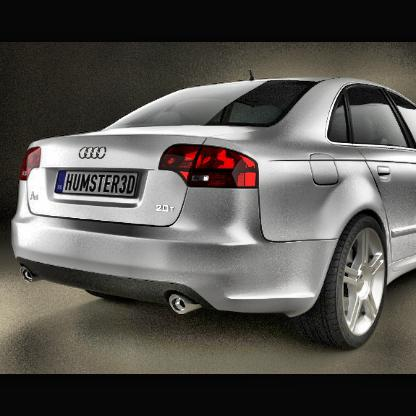Audi S4 Sedan 2007: (12, 75, 416, 341)
